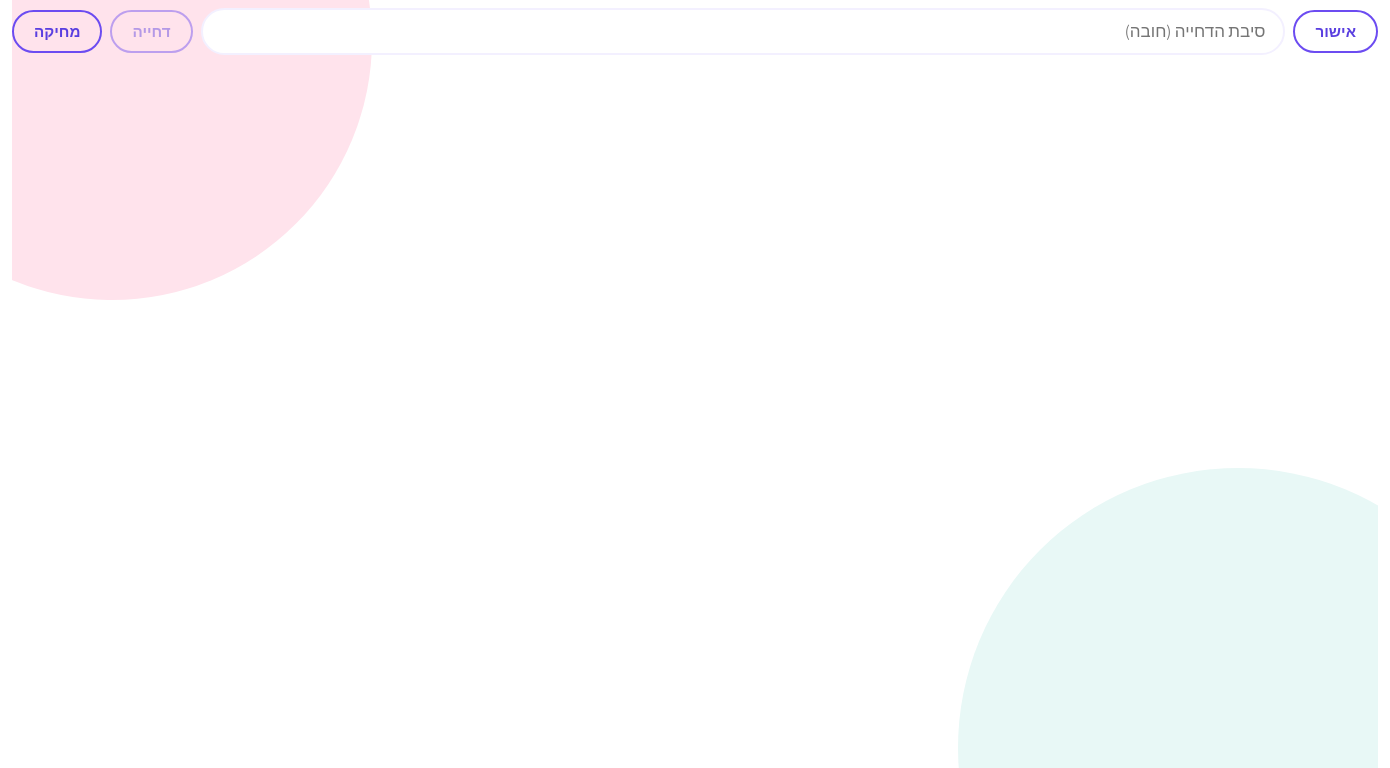
Test case: AdminPollActions › כשל באישור מציג הודעת שגיאה
Click the button "אישור" at (1336, 32), box [1294,10,1378,53]
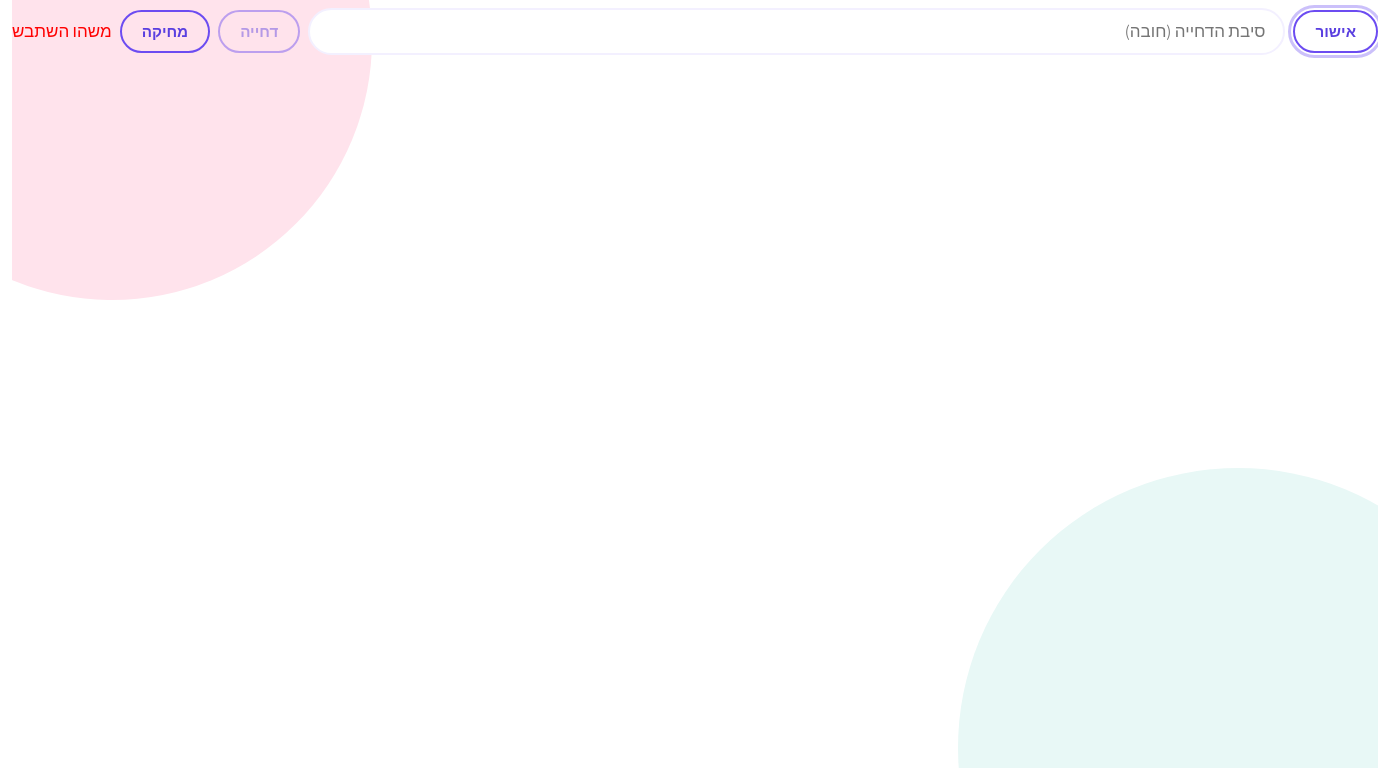
Check: the text "משהו השתבש" is shown, box [12,18,112,45]
